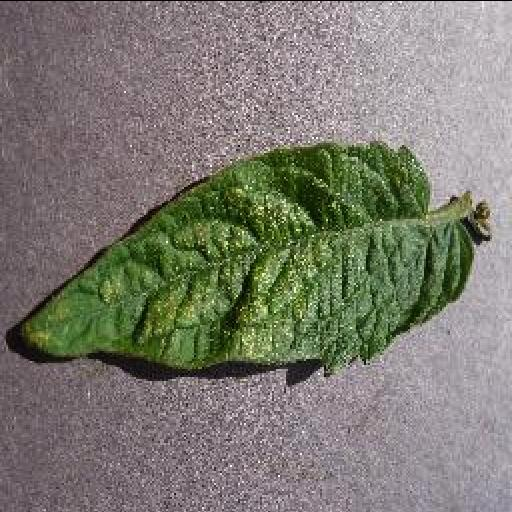disease_tomato: (10, 141, 474, 376)
